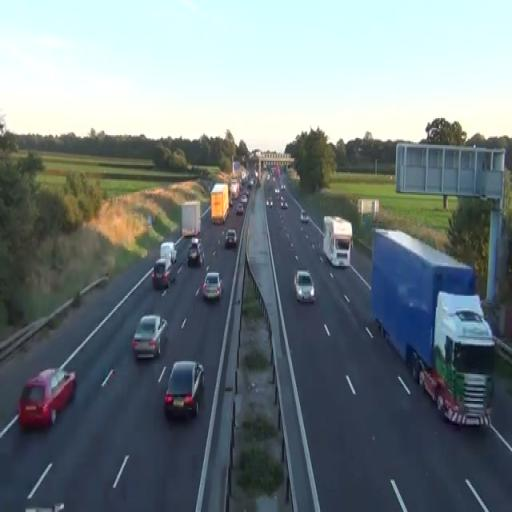Car: (18, 365, 76, 431), (163, 361, 205, 420), (132, 314, 168, 360), (294, 270, 315, 304), (201, 271, 223, 301), (187, 236, 204, 266), (224, 228, 238, 250), (236, 202, 244, 216)
Truck: (370, 228, 495, 428), (322, 216, 353, 268), (210, 183, 230, 225), (182, 200, 202, 238)
